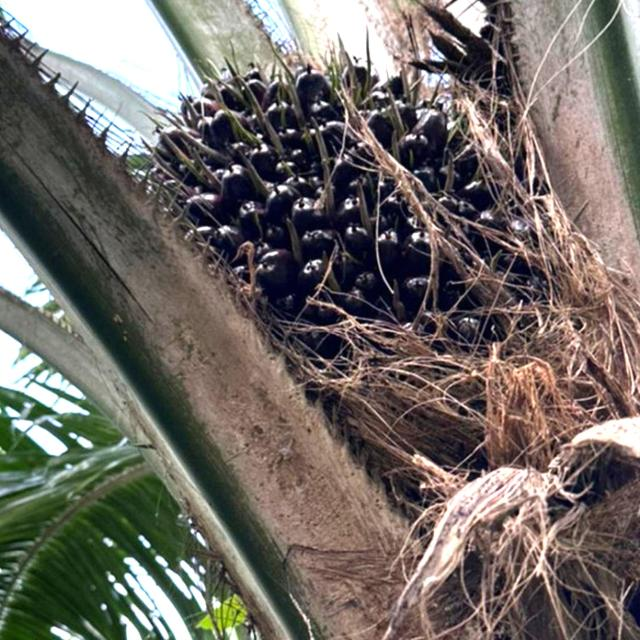ripe: (149, 49, 566, 356)
